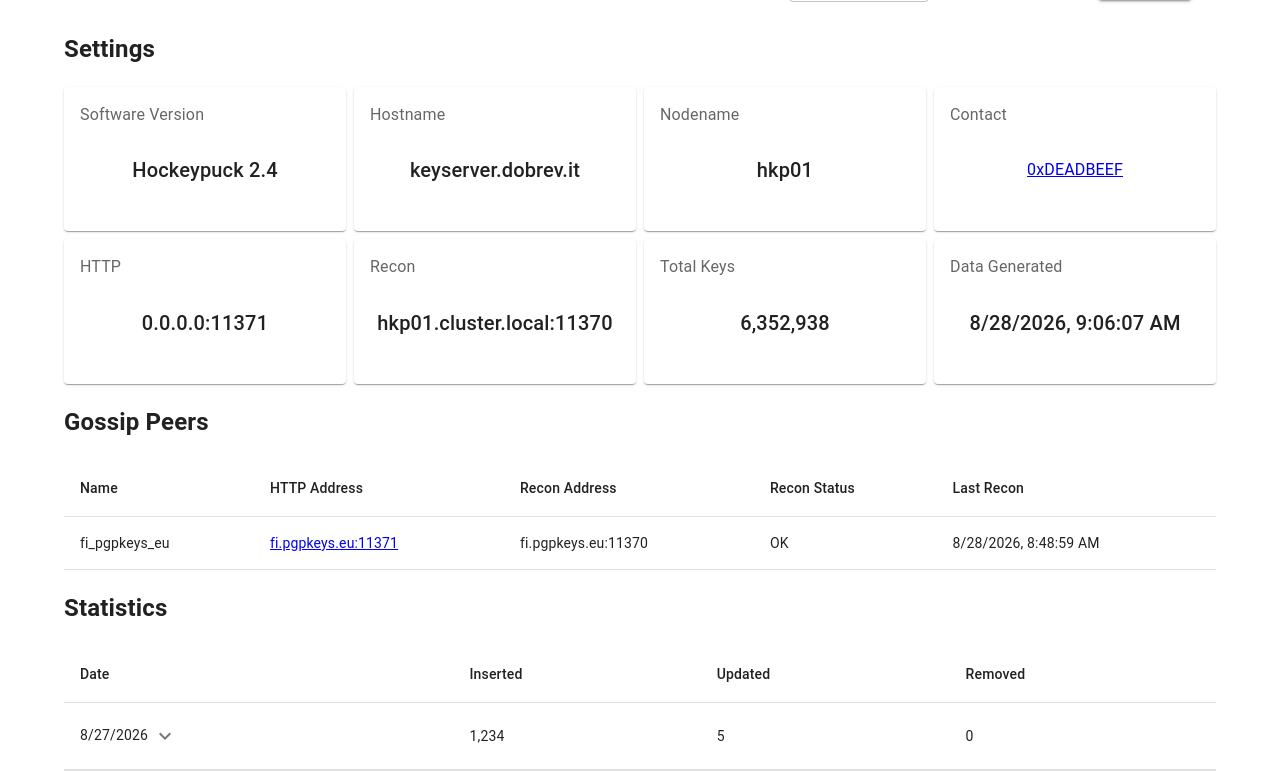
Test: App › expands a day to reveal its hourly rows
The image size is (1280, 771).
(page scrolled)
Expected: the text "fi_pgpkeys_eu" is shown, [64,516,254,569]
Click the button named "expand row" at (165, 736), box [148,719,182,753]
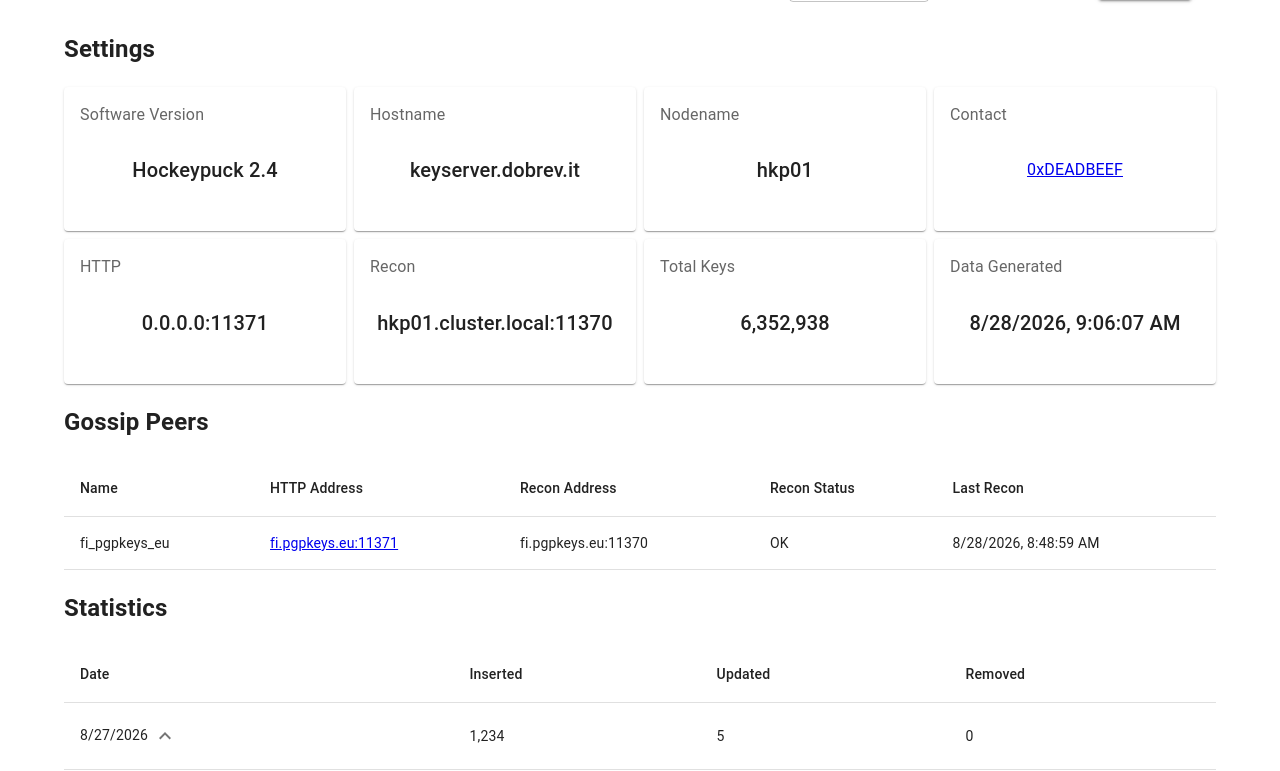
Now the button named "collapse row" is shown, box [148,719,182,753]
